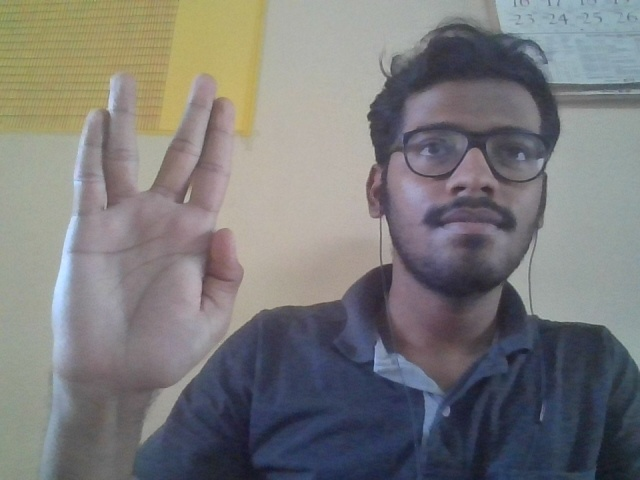LiveLong: (53, 65, 247, 395)
